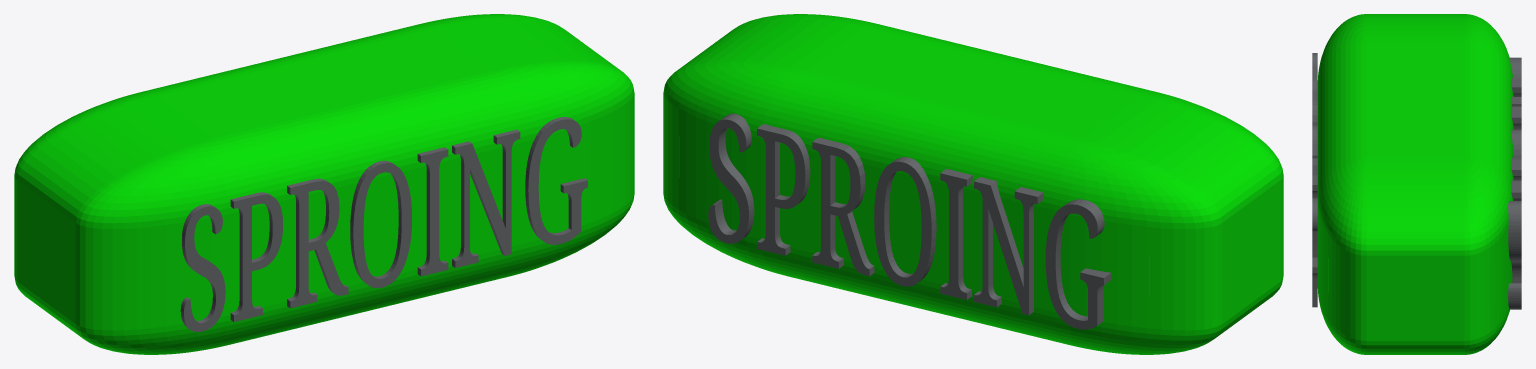
File: SPROING.glb
3 views of the same model, side by side, from view 1: azimuth 30°, elevation 25°; view 2: azimuth 150°, elevation 25°; view 3: azimuth 270°, elevation 25° (orthographic). The views are drawn at different scales.
Parts seen in each view (by area): view 1: Mesh_Mesh_head_geo.001_lambert2SG.001; view 2: Mesh_Mesh_head_geo.001_lambert2SG.001; view 3: Mesh_Mesh_head_geo.001_lambert2SG.001.
Part boxes in pixels (box(x1,y1,x2,y2)): Mesh_Mesh_head_geo.001_lambert2SG.001: box(14, 14, 634, 354); Mesh_Mesh_head_geo.001_lambert2SG.001: box(663, 14, 1283, 354); Mesh_Mesh_head_geo.001_lambert2SG.001: box(1312, 14, 1521, 354).
Size of the model in its own units: 66 by 23 by 25.65.
